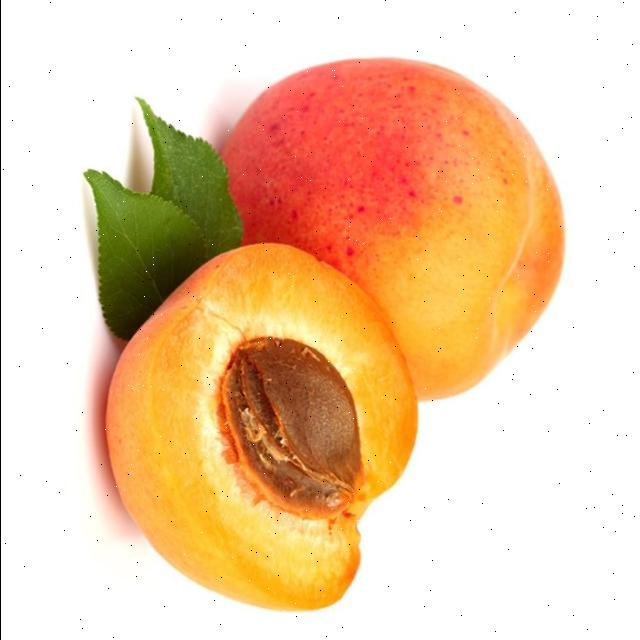Cekirdek: (221, 337, 362, 518)
Kayisi: (223, 59, 563, 400), (105, 244, 417, 610)
Yaprak: (83, 170, 206, 339), (137, 98, 241, 261)
